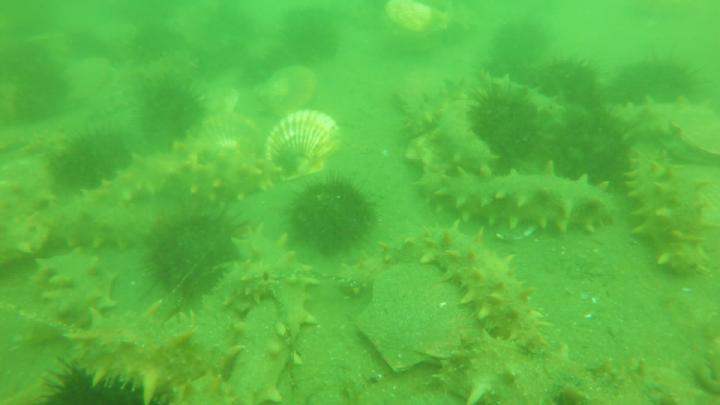echinus: (282, 177, 381, 261), (550, 108, 631, 187), (38, 354, 161, 405), (47, 127, 135, 195), (128, 73, 206, 146), (611, 53, 711, 108), (471, 93, 542, 168), (529, 56, 604, 106), (282, 9, 343, 67), (12, 65, 74, 121), (491, 18, 552, 63), (125, 22, 184, 64), (482, 47, 539, 85), (239, 45, 292, 85), (64, 29, 109, 63)
holothurian: (391, 222, 551, 352), (428, 330, 691, 405), (156, 262, 282, 405), (419, 161, 622, 242), (226, 224, 315, 404), (73, 303, 210, 401), (535, 162, 618, 304), (627, 141, 711, 277), (60, 144, 183, 233), (28, 249, 120, 327), (1, 153, 56, 262), (461, 65, 558, 123), (186, 143, 277, 199), (437, 98, 498, 176), (404, 76, 474, 138), (622, 93, 687, 137)
scallop: (357, 259, 493, 373), (269, 108, 342, 175), (256, 64, 322, 123), (669, 157, 720, 233), (195, 113, 267, 163), (668, 101, 720, 170), (380, 1, 457, 39), (63, 53, 113, 107), (193, 85, 243, 118)
